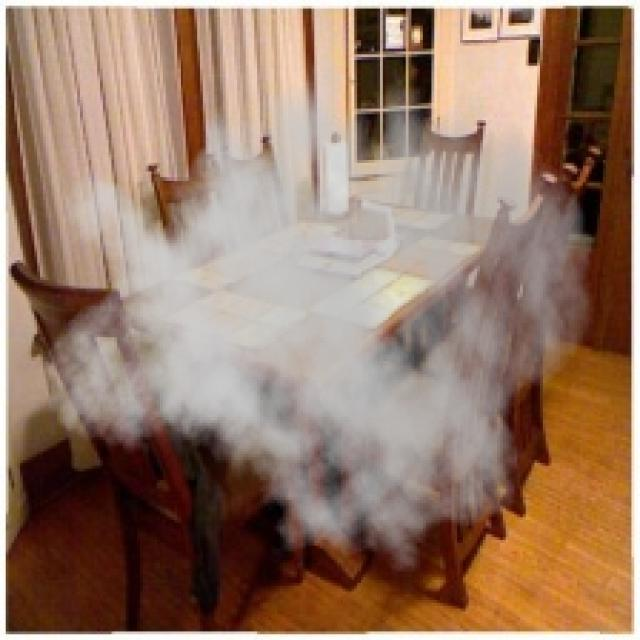Smoke: (39, 23, 594, 586)
